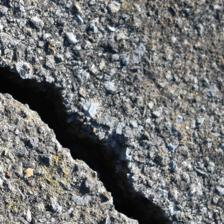Crack: (3, 29, 171, 190)
